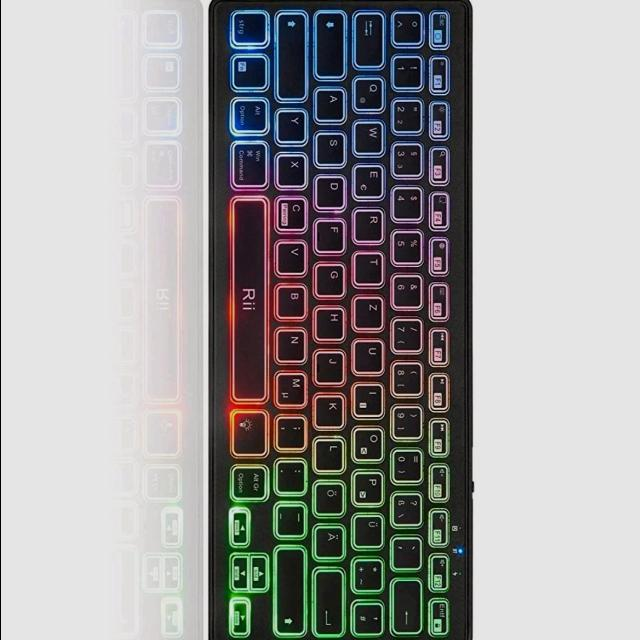0: (393, 445, 425, 481)
1: (394, 52, 425, 88)
2: (395, 96, 425, 132)
3: (394, 139, 425, 176)
4: (394, 183, 425, 219)
5: (394, 227, 425, 264)
6: (394, 271, 424, 309)
7: (393, 315, 425, 351)
8: (393, 357, 424, 394)
9: (393, 401, 425, 438)
a: (317, 85, 348, 121)
accent: (394, 533, 424, 568)
ae: (316, 522, 347, 557)
alt-left: (230, 98, 269, 133)
altgr-right: (231, 463, 270, 501)
b: (278, 281, 309, 318)
c: (276, 193, 309, 231)
caret: (394, 8, 424, 44)
comma: (278, 412, 309, 448)
d: (316, 172, 348, 208)
del: (394, 577, 424, 633)
e: (354, 161, 386, 198)
enter: (316, 566, 346, 634)
f: (317, 216, 347, 252)
g: (317, 259, 347, 295)
h: (316, 303, 347, 339)
hash: (354, 599, 385, 634)
i: (355, 380, 386, 416)
j: (317, 347, 347, 382)
k: (316, 391, 348, 426)
keyboard: (210, 0, 479, 640)
l: (315, 435, 347, 471)
m: (277, 368, 309, 406)
minus: (277, 500, 308, 536)
n: (278, 325, 309, 361)
o: (354, 423, 386, 461)
oe: (315, 478, 346, 514)
p: (354, 467, 386, 504)
plus: (355, 555, 385, 590)
point: (278, 456, 308, 492)
q: (355, 74, 387, 110)
r: (355, 206, 386, 242)
s: (317, 129, 348, 165)
shift-left: (278, 9, 310, 101)
shift-lock: (316, 8, 348, 78)
shift-right: (277, 544, 308, 634)
space: (233, 195, 269, 403)
ss: (394, 488, 424, 524)
strg-left: (229, 11, 268, 46)
t: (356, 249, 386, 284)
tab: (355, 8, 387, 66)
u: (354, 336, 386, 372)
ue: (354, 510, 385, 546)
v: (278, 238, 309, 274)
w: (355, 118, 387, 154)
x: (278, 150, 309, 186)
y: (278, 107, 309, 142)
z: (355, 293, 386, 329)
